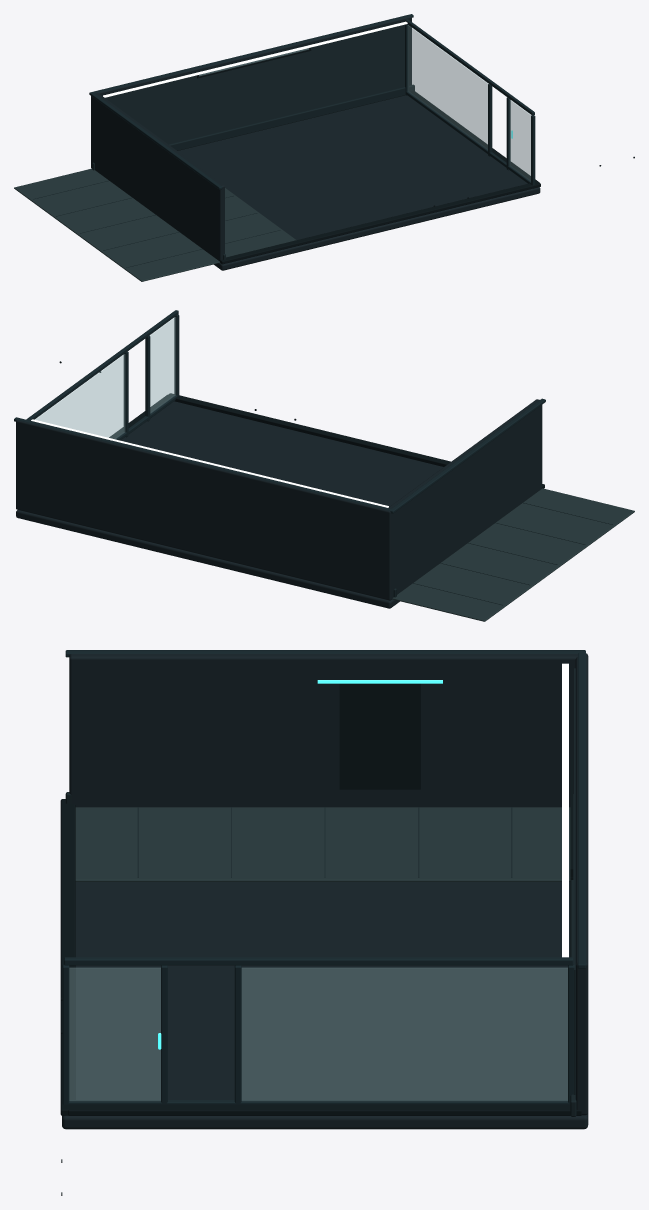
The model's file is office_room_shell.glb.
The picture shows the model from 3 angles, top to bottom: view 1: azimuth 30°, elevation 25°; view 2: azimuth 150°, elevation 25°; view 3: azimuth 270°, elevation 25°; orthographic projection. The views are drawn at different scales.
Visible parts, largest first — view 1: Floor_Slab, Back_Wall_Inset, Timber_Work_Zone, Left_Wall, Partition_Left_Glass, Back_Baseboard, Front_Cutaway_Threshold, Back_Wall, Partition_Right_Glass, Ceiling_Light_Strip, Back_Top_Cap, Left_Top_Cap (+3 smaller); view 2: Back_Wall, Floor_Slab, Timber_Work_Zone, Left_Wall, Partition_Left_Glass, Front_Cutaway_Threshold, Partition_Right_Glass, Back_Top_Cap, Left_Top_Cap, Partition_Top_Rail, Ceiling_Light_Strip, Partition_Vertical_Post_2 (+2 smaller); view 3: Floor_Slab, Left_Wall, Partition_Left_Glass, Timber_Work_Zone, Partition_Right_Glass, Vertical_Accent_Panel, Right_Cutaway_Threshold, Partition_Top_Rail, Front_Cutaway_Threshold, Back_Wall, Back_Top_Cap, Partition_Bottom_Rail (+7 smaller).
Part boxes in pixels (<box>): Floor_Slab: <box>178,95,540,270</box>; Back_Wall_Inset: <box>105,24,404,144</box>; Timber_Work_Zone: <box>14,168,296,281</box>; Left_Wall: <box>93,92,224,260</box>; Partition_Left_Glass: <box>407,25,487,149</box>; Back_Baseboard: <box>92,84,414,170</box>; Front_Cutaway_Threshold: <box>219,181,540,264</box>; Back_Wall: <box>91,16,411,168</box>; Partition_Right_Glass: <box>509,99,530,181</box>; Ceiling_Light_Strip: <box>103,21,407,97</box>; Back_Top_Cap: <box>89,14,413,94</box>; Left_Top_Cap: <box>90,92,222,189</box>; Back_Wall: <box>16,420,393,600</box>; Floor_Slab: <box>16,401,443,608</box>; Timber_Work_Zone: <box>392,488,634,621</box>; Left_Wall: <box>388,399,542,597</box>; Partition_Left_Glass: <box>35,354,125,438</box>; Front_Cutaway_Threshold: <box>167,393,544,488</box>; Partition_Right_Glass: <box>150,317,175,413</box>; Back_Top_Cap: <box>14,417,394,513</box>; Left_Top_Cap: <box>390,398,545,512</box>; Partition_Top_Rail: <box>26,310,178,420</box>; Ceiling_Light_Strip: <box>31,419,388,507</box>; Partition_Vertical_Post_2: <box>145,335,150,421</box>; Floor_Slab: <box>62,882,588,1129</box>; Left_Wall: <box>69,653,577,807</box>; Partition_Left_Glass: <box>242,968,567,1100</box>; Timber_Work_Zone: <box>75,807,570,881</box>; Partition_Right_Glass: <box>69,968,160,1100</box>; Vertical_Accent_Panel: <box>339,683,420,789</box>; Right_Cutaway_Threshold: <box>68,1104,581,1115</box>; Partition_Top_Rail: <box>64,957,573,965</box>; Front_Cutaway_Threshold: <box>60,799,75,1115</box>; Back_Wall: <box>575,653,588,1115</box>; Back_Top_Cap: <box>577,650,585,968</box>; Partition_Bottom_Rail: <box>65,1100,570,1104</box>.
Size of the model in its own units: 21.56 by 3.51 by 10.02.
